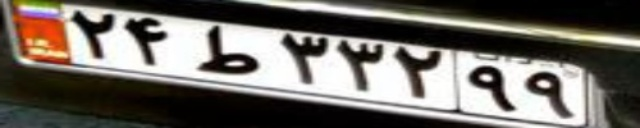2: (393, 46, 443, 100), (69, 9, 115, 59)
3: (277, 32, 330, 84), (334, 39, 387, 91)
4: (121, 16, 171, 65)
9: (522, 72, 575, 118), (464, 63, 512, 113)
taa: (193, 24, 259, 74)
